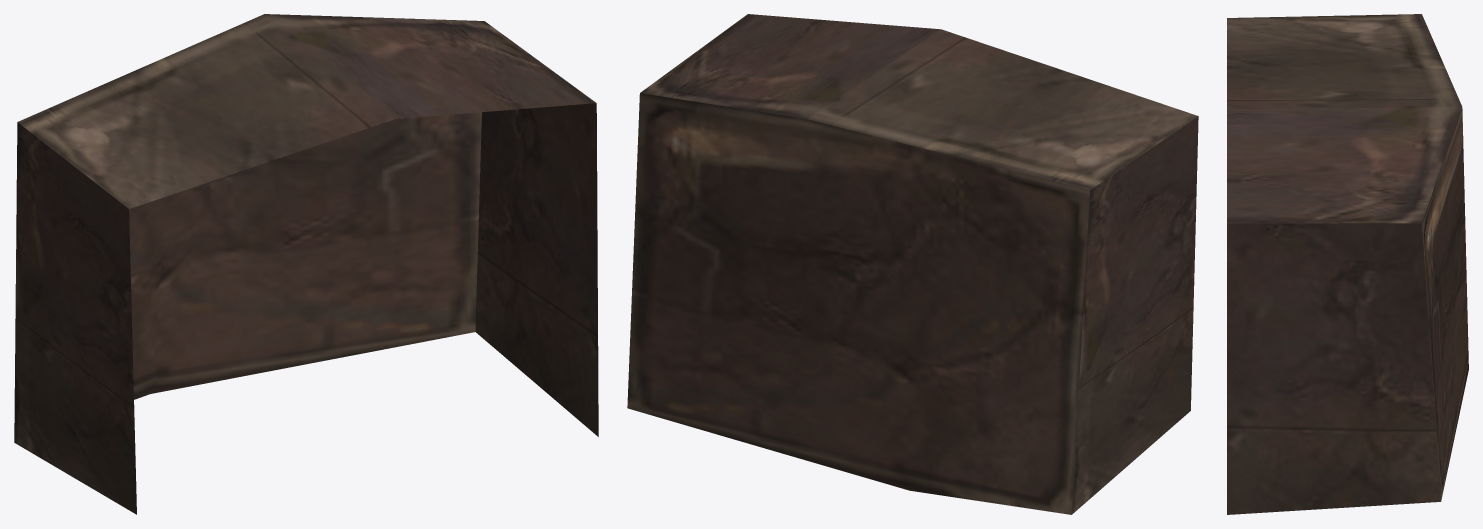
The model's file is wall_break_03.FBX.
The picture shows the model from 3 angles, left to right: view 1: azimuth 30°, elevation 25°; view 2: azimuth 150°, elevation 25°; view 3: azimuth 270°, elevation 25°; orthographic projection. The views are drawn at different scales.
Visible parts, largest first — view 1: wall_break_03; view 2: wall_break_03; view 3: wall_break_03.
Part boxes in pixels (x1,y1,x2,y2): wall_break_03: (14,14,598,514); wall_break_03: (627,14,1198,514); wall_break_03: (1227,14,1468,514).
Bounding box in the file's own units: 1.04 × 0.7895 × 0.5347.
